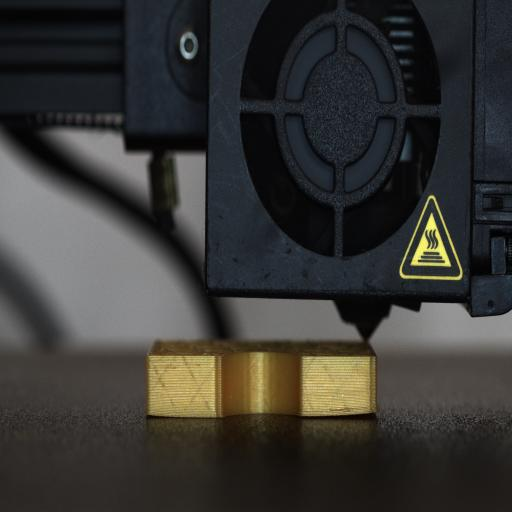warp: (324, 402, 382, 420)
